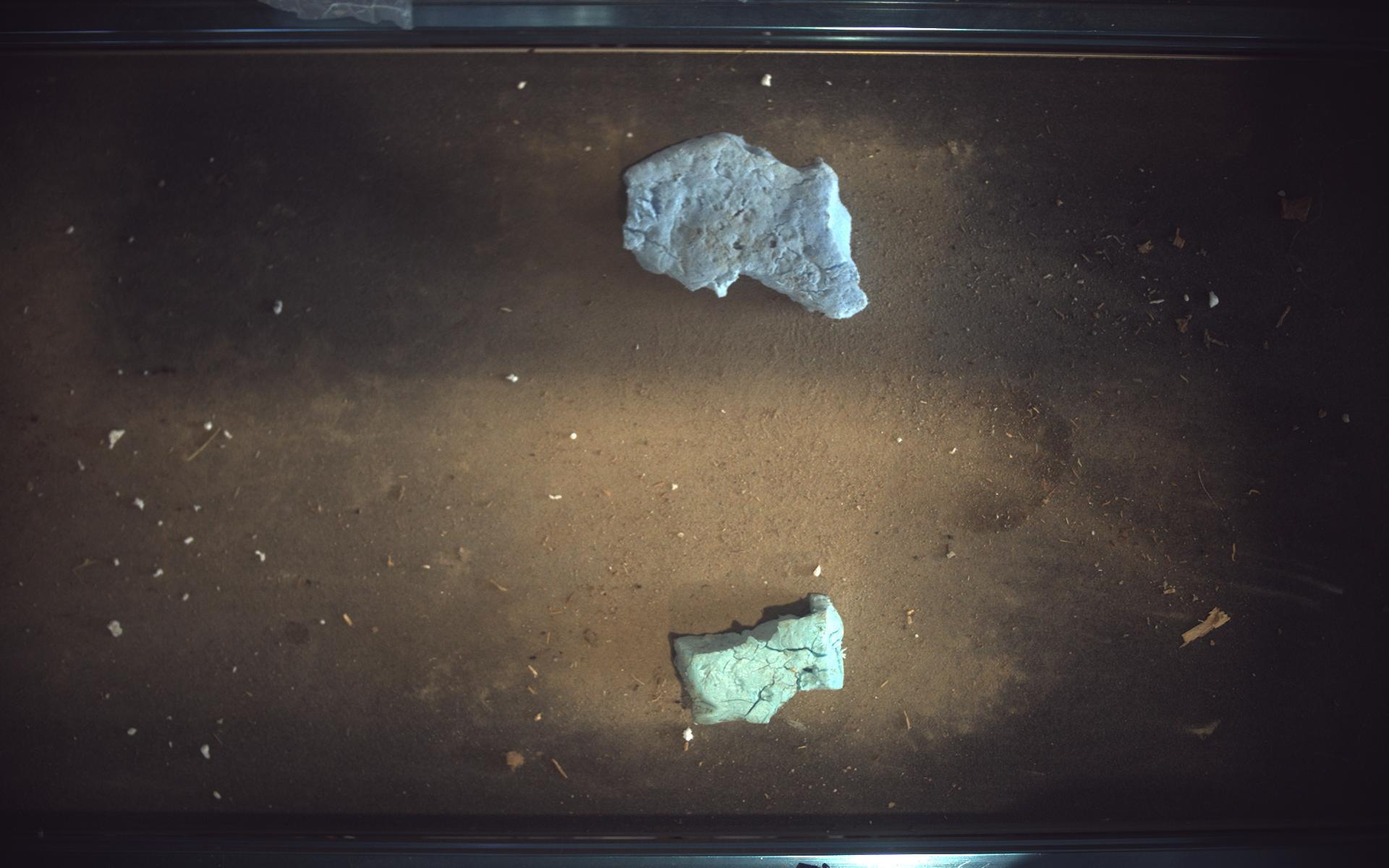foam: (624, 132, 870, 318), (675, 595, 845, 726)
